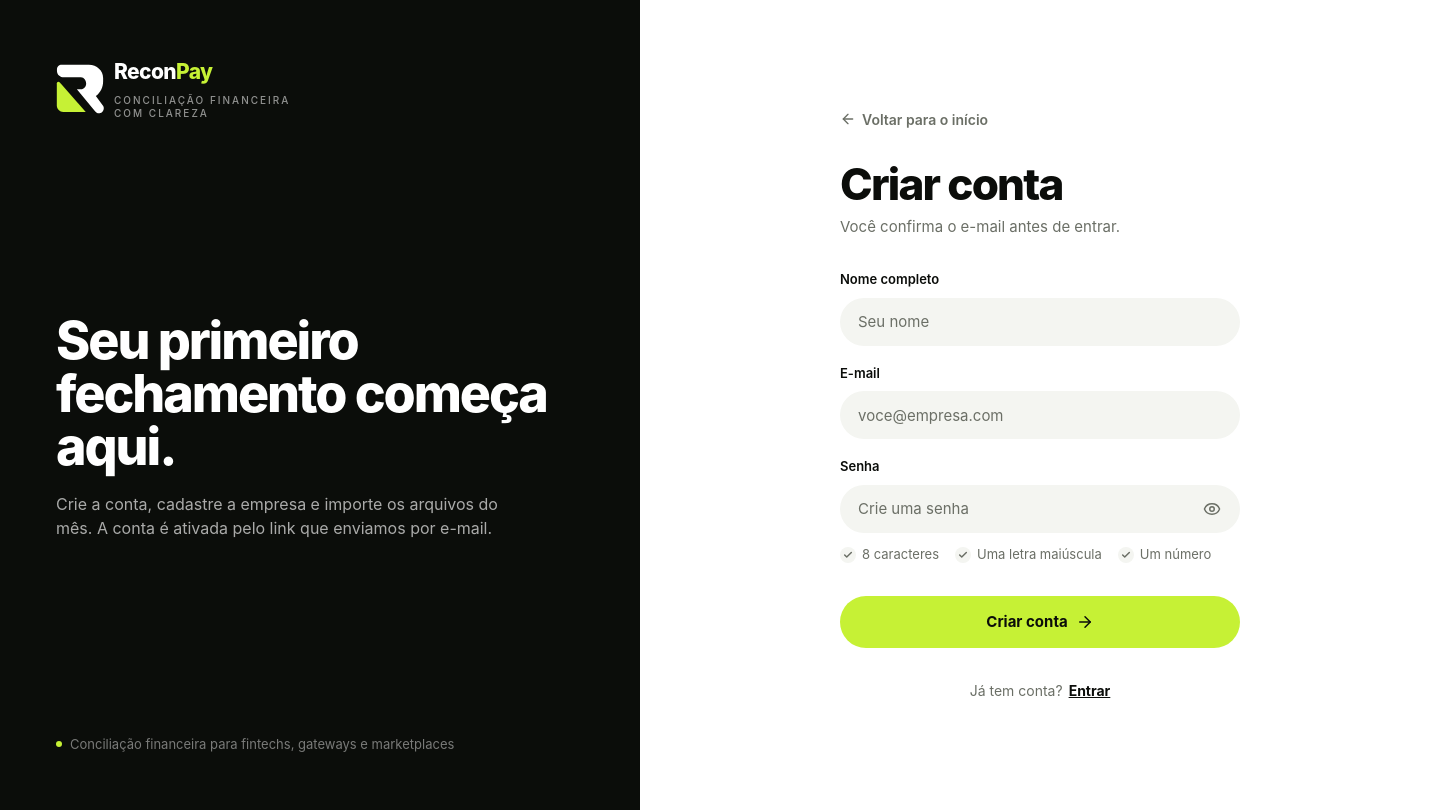
RegisterPage › desabilita o botão com "Criando conta..." e não envia de novo (CAD-03 AC2)
Type "Ana Souza" into the field labelled "Nome completo".
click(1040, 322); type("Ana Souza")  # box [840,298,1240,346]
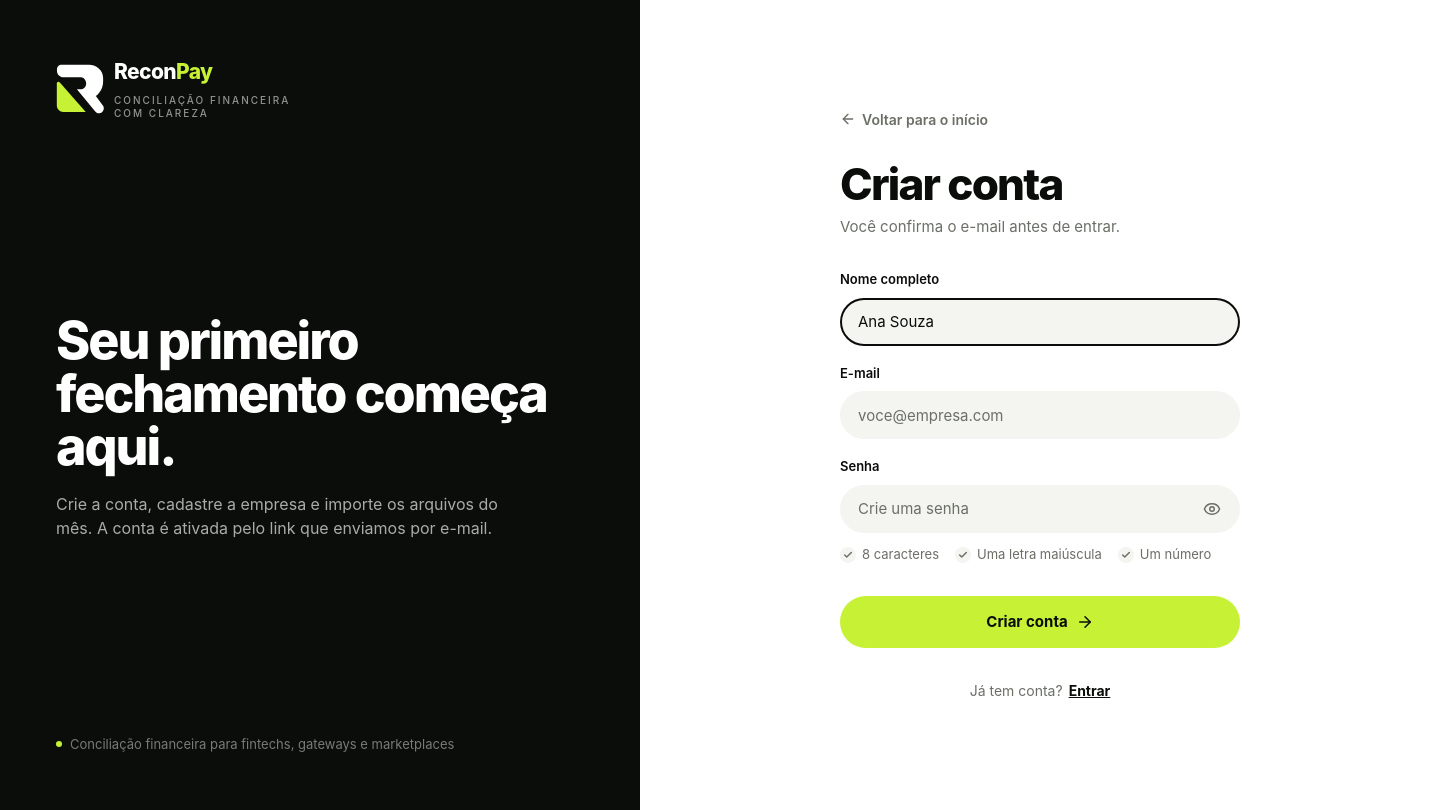
Type "ana@lojacentro.com.br" into the field labelled "E-mail".
click(1040, 415); type("ana@lojacentro.com.br")  # box [840,391,1240,439]
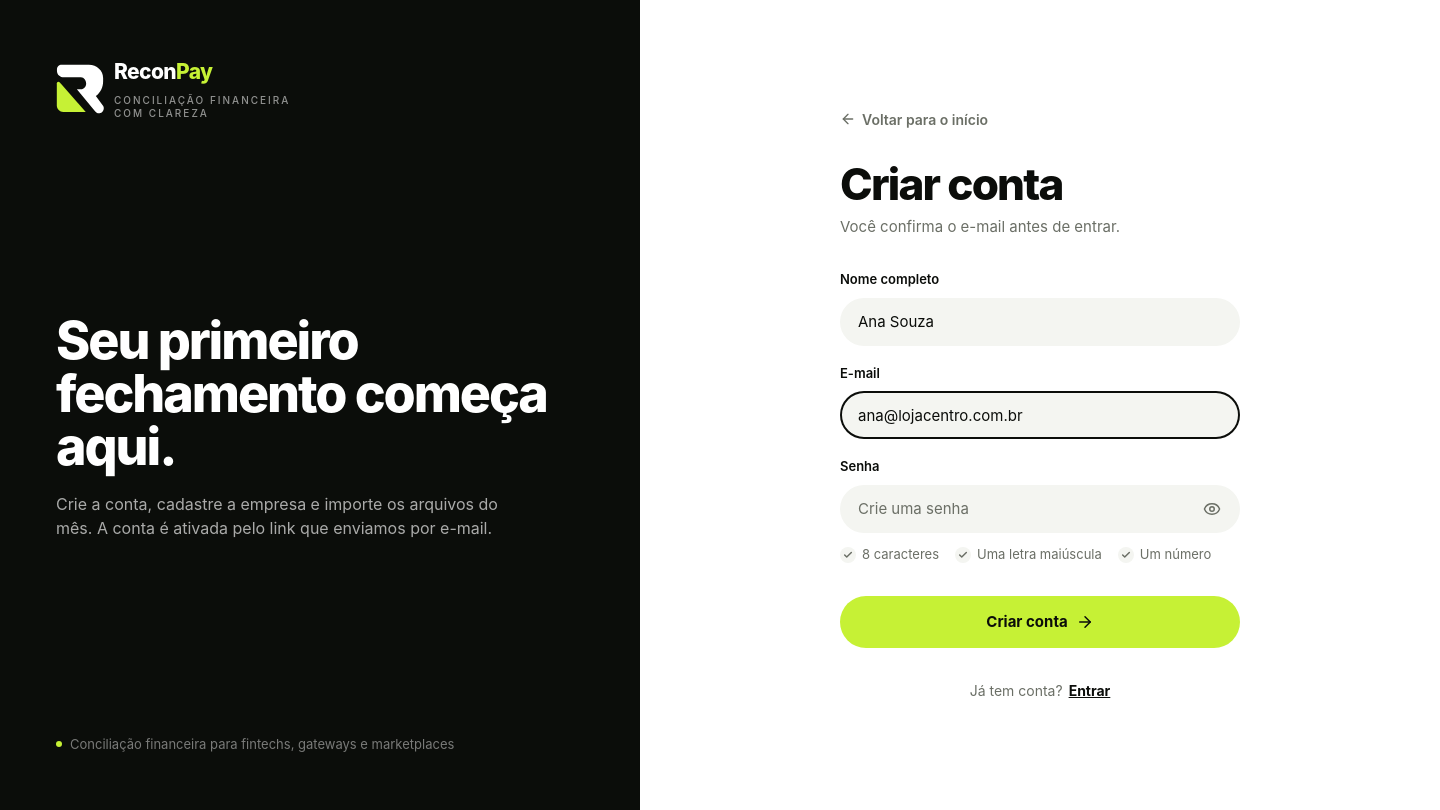
Type "Reconpay20" into the password field labelled "Senha".
click(1040, 509); type("Reconpay20")  # box [840,485,1240,533]
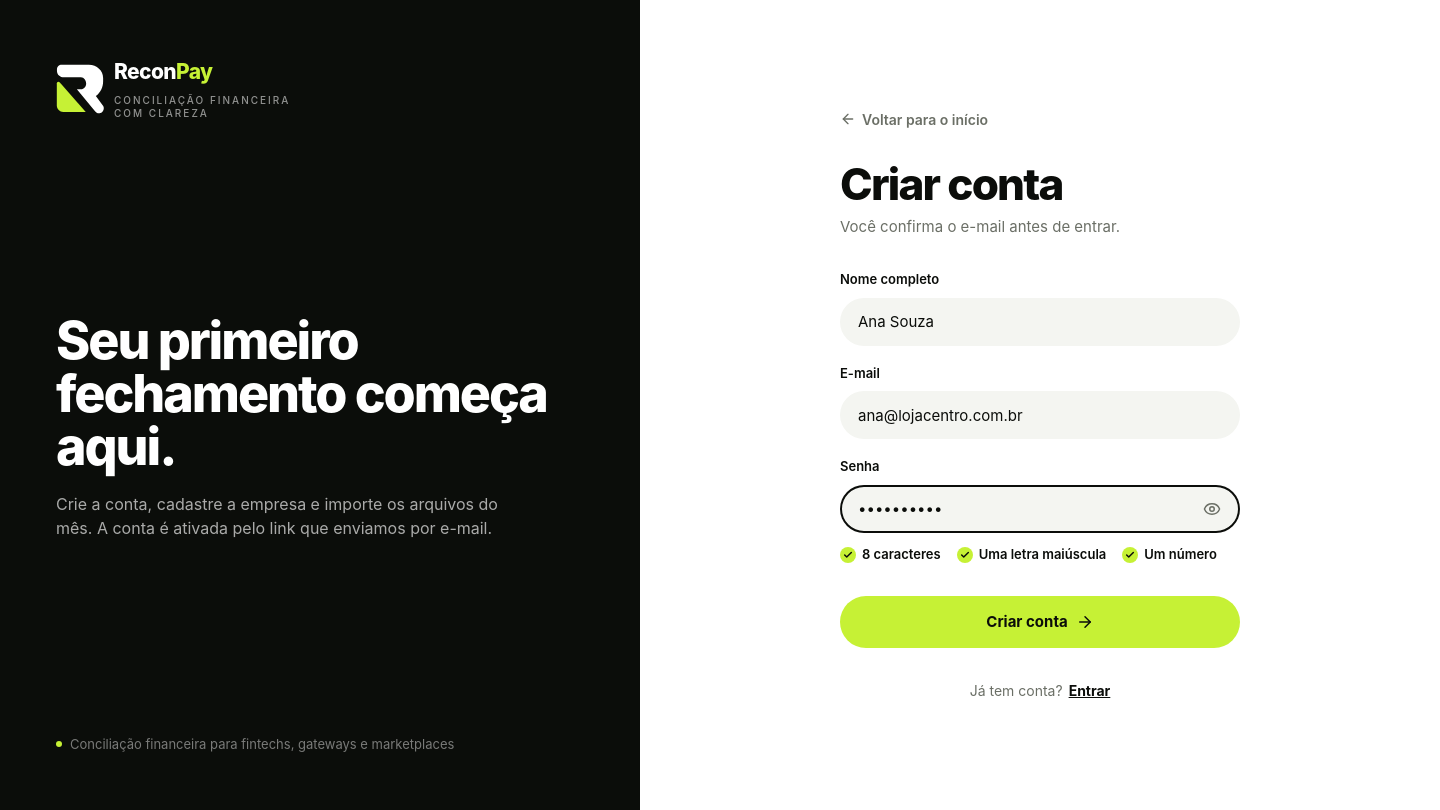
Click the button "Criar conta".
click(1040, 622)  # box [840,596,1240,648]
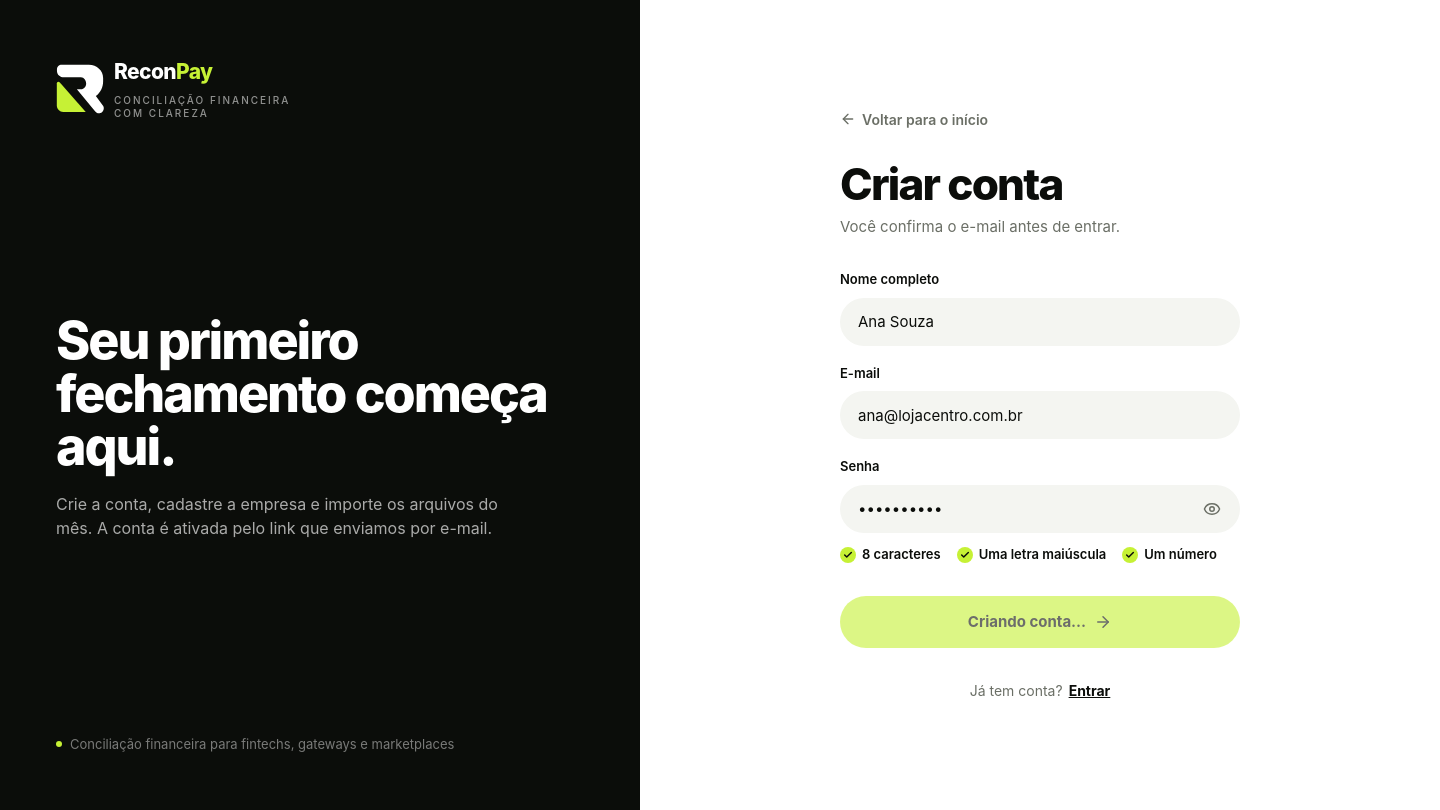
Result: the button "Criando conta..." is disabled
Result: the button "Criando conta..." is shown
Click the button "Criando conta...".
click(1040, 622)  # box [840,596,1240,648]
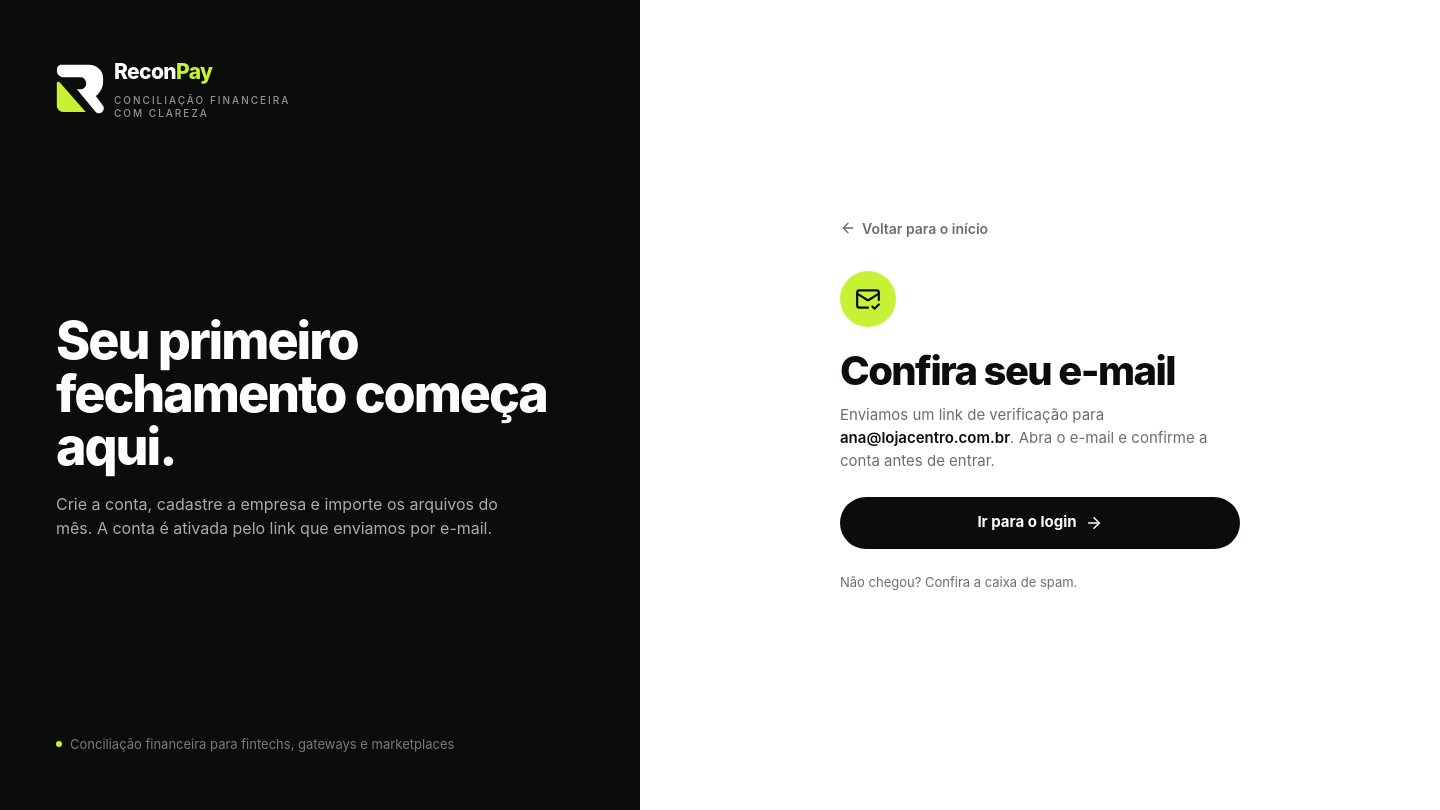
Result: the heading "Confira seu e-mail" is shown at [840,346,1175,395]
